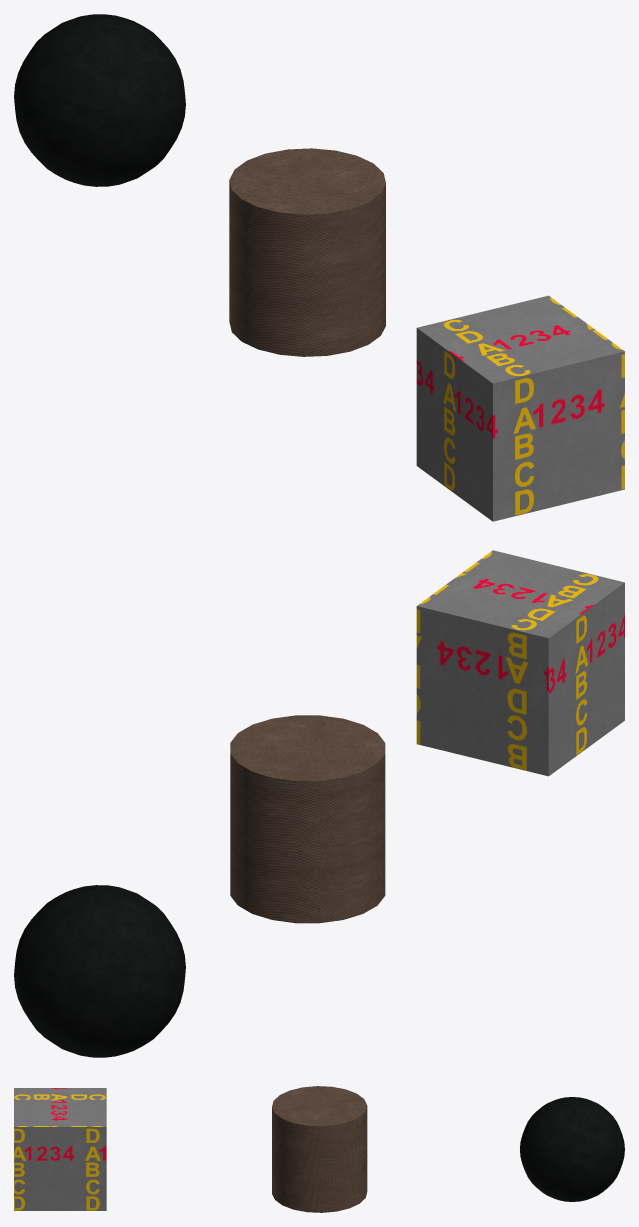
File: Test_temp_three mat_model_01.fbx
The picture shows the model from 3 angles, top to bottom: view 1: azimuth 30°, elevation 25°; view 2: azimuth 150°, elevation 25°; view 3: azimuth 270°, elevation 25°; orthographic projection. The views are drawn at different scales.
Parts seen in each view (by area): view 1: pCylinder2; view 2: pCylinder2; view 3: pCylinder2.
Part boxes in pixels (box(x1,y1,x2,y2)): pCylinder2: box(14, 14, 624, 521); pCylinder2: box(14, 550, 624, 1057); pCylinder2: box(14, 1086, 624, 1212).
Size of the model in its own units: 94.1 by 94.1 by 547.
